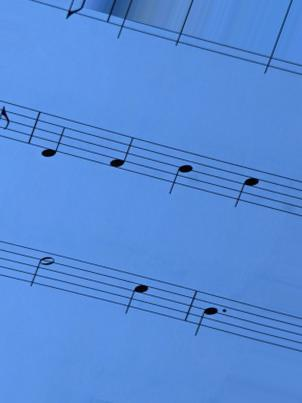B: (165, 145, 197, 199), (192, 286, 221, 339)
D: (38, 108, 70, 163)
F: (108, 124, 136, 179)
HC: (229, 158, 263, 213), (121, 267, 151, 321)
